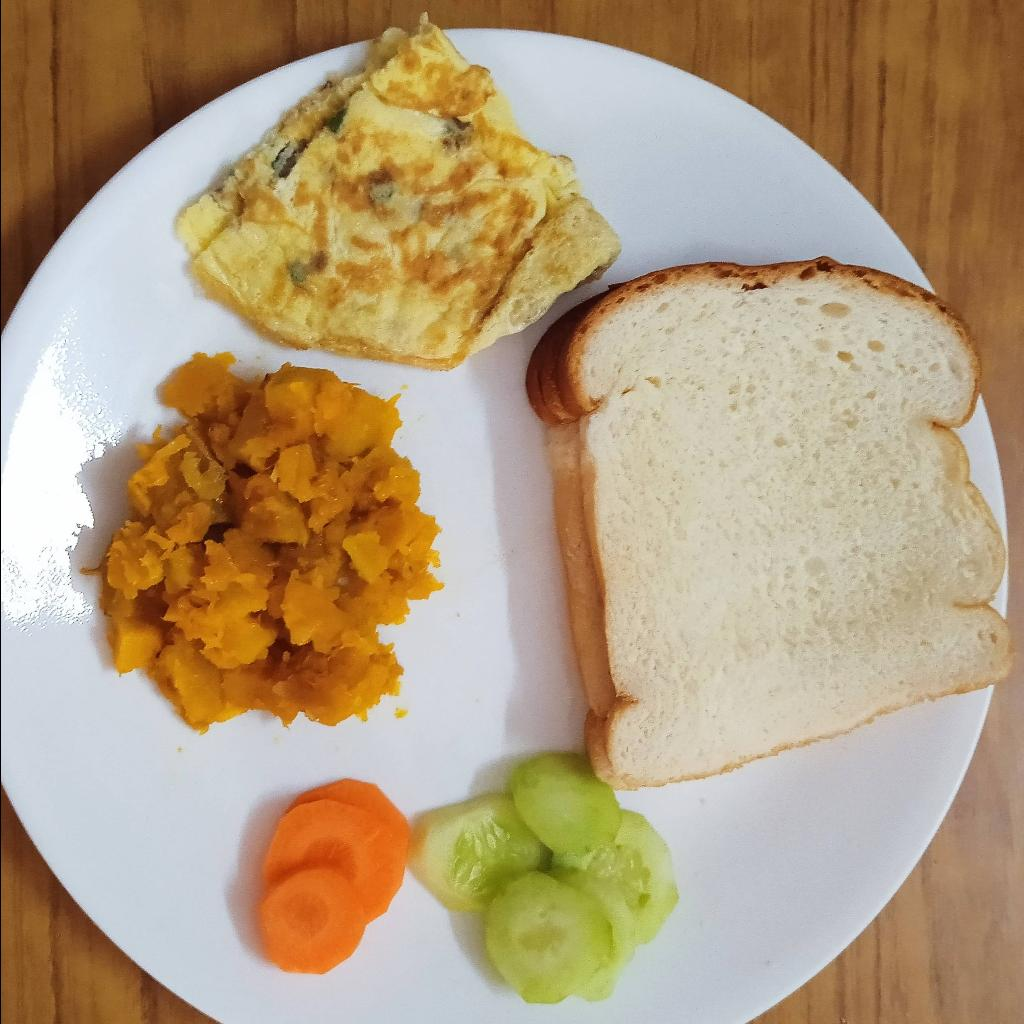bread: (526, 257, 1010, 788)
carrot: (257, 780, 410, 973)
cucumber: (409, 752, 678, 1004)
egg-poached: (175, 21, 619, 369)
kumra-vaji: (98, 353, 441, 732)
